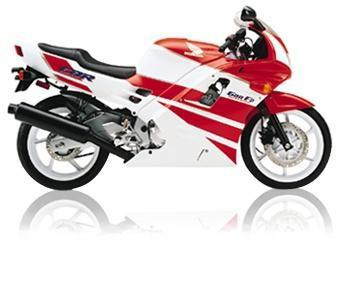motorcycle: (5, 3, 344, 195)
